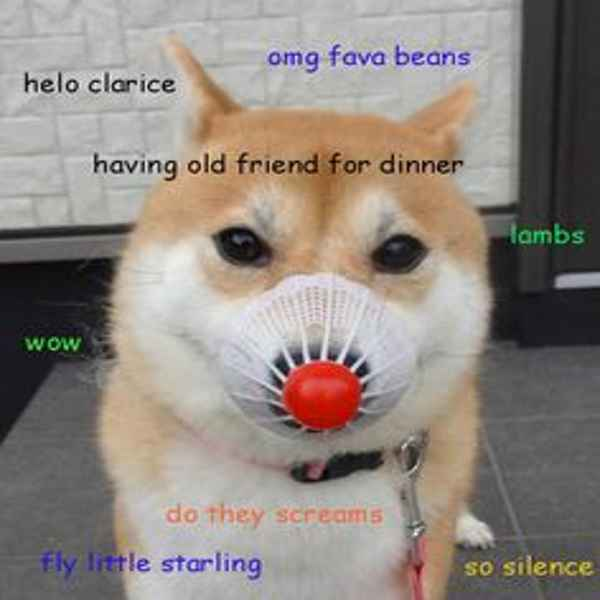doge: (93, 38, 497, 471)
